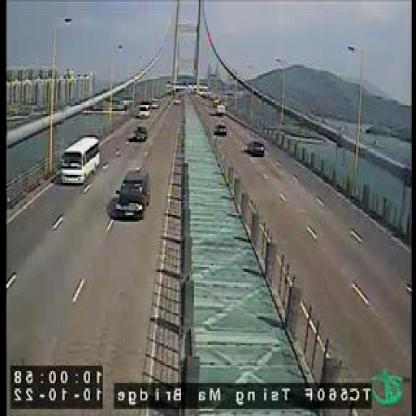Bus: (62, 133, 101, 185)
Car: (115, 164, 151, 219), (249, 137, 266, 156), (137, 101, 151, 120), (132, 127, 146, 142), (214, 124, 226, 136)
